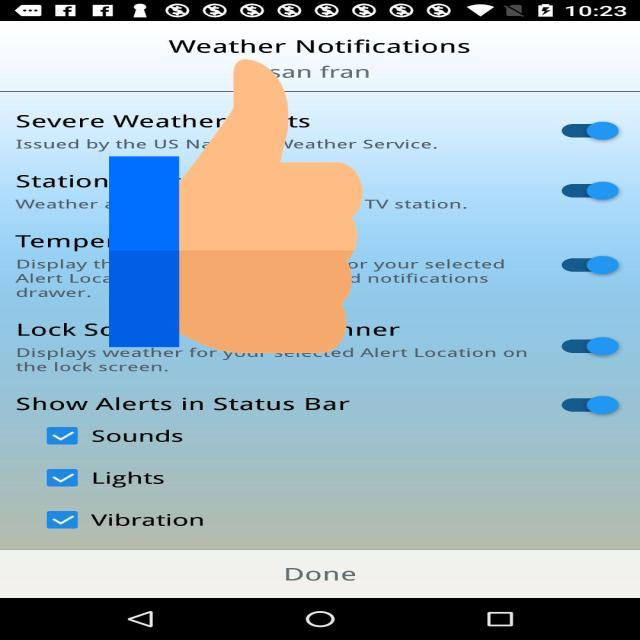privacy zuckering: (109, 52, 363, 360)
